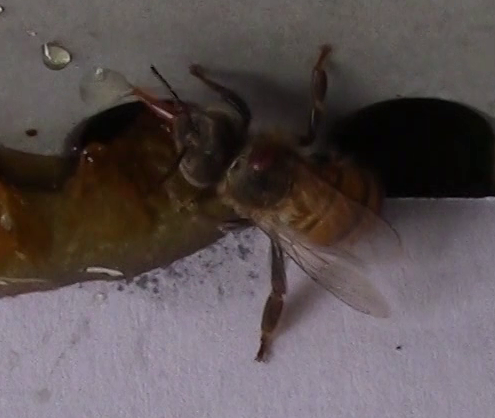Varroa destructor: (244, 144, 281, 172)
